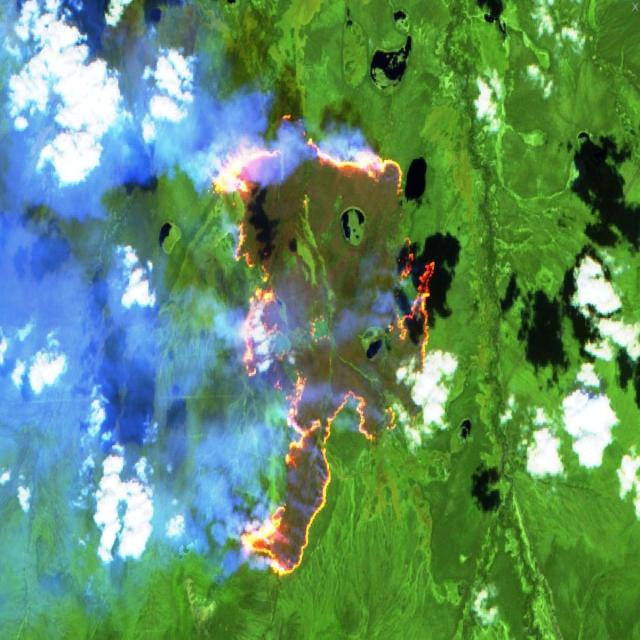fire: (202, 108, 440, 592)
